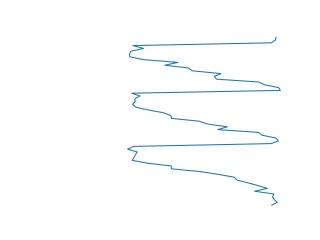distributaryMouthBar: (124, 35, 285, 207)
